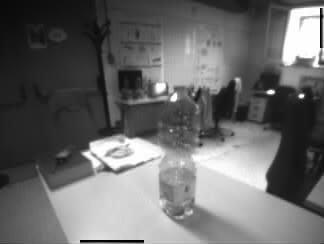Bottle: (158, 86, 197, 217)
